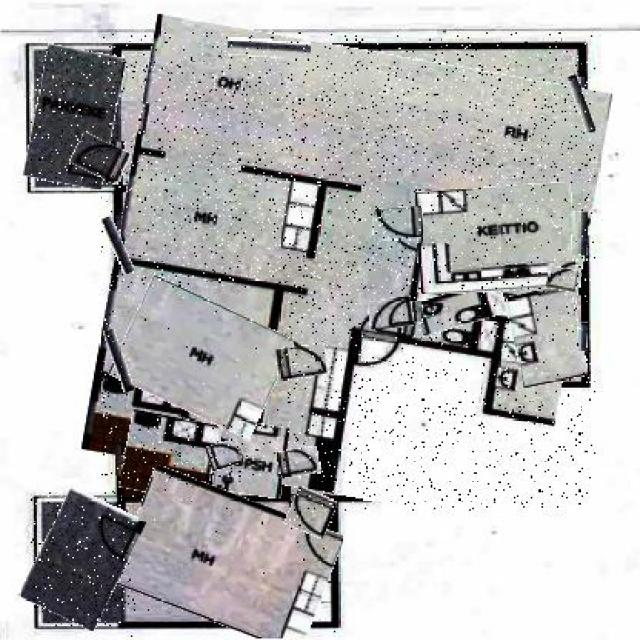door: (71, 137, 129, 180), (286, 490, 334, 536), (277, 344, 326, 378), (374, 208, 423, 240), (369, 297, 414, 329), (278, 448, 320, 477), (208, 442, 242, 469), (549, 268, 577, 292), (392, 302, 423, 323)
window: (228, 38, 310, 58), (106, 216, 129, 276), (109, 329, 129, 394), (572, 74, 591, 134), (574, 211, 588, 255), (578, 322, 588, 351), (117, 444, 123, 476)
zone: (100, 32, 595, 511), (118, 482, 336, 638), (116, 288, 286, 424), (418, 183, 578, 292), (31, 492, 135, 626), (29, 46, 120, 186), (122, 414, 216, 498), (509, 288, 585, 386), (216, 420, 286, 497), (416, 286, 506, 329)
